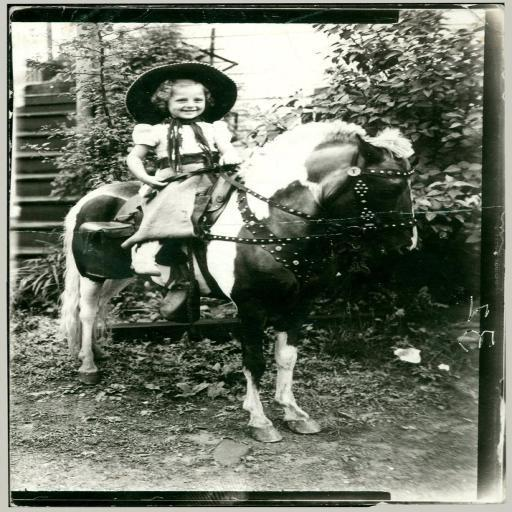horse: (54, 117, 422, 445)
